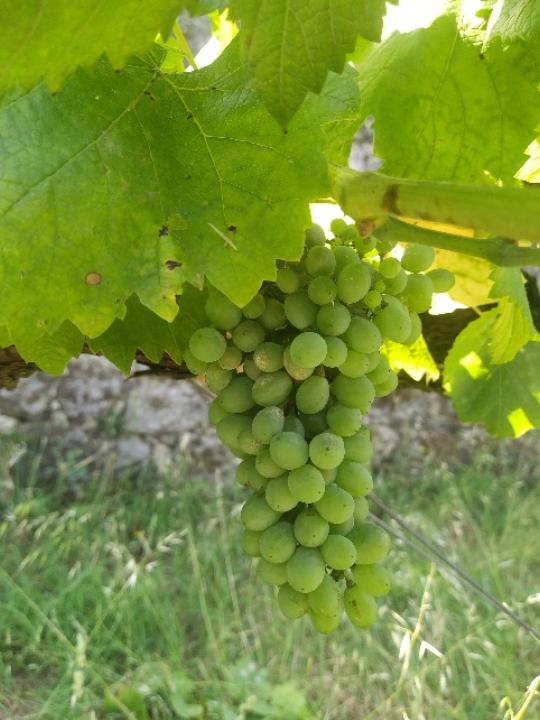grape: (184, 217, 463, 641)
